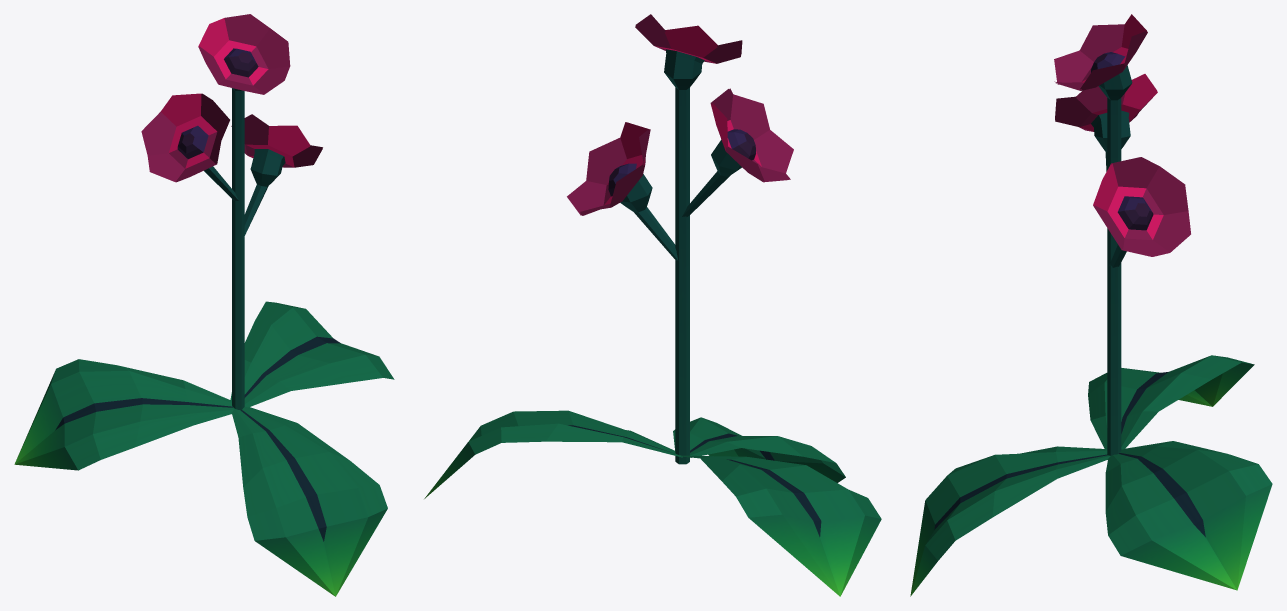
The model's file is Flower_RedHeads.fbx.
The picture shows the model from 3 angles, left to right: view 1: azimuth 30°, elevation 25°; view 2: azimuth 150°, elevation 25°; view 3: azimuth 270°, elevation 25°; orthographic projection. The views are drawn at different scales.
Parts seen in each view (by area): view 1: Plane.021; view 2: Plane.021; view 3: Plane.021.
Part boxes in pixels (bbox=[...]): Plane.021: bbox=[14, 14, 394, 596]; Plane.021: bbox=[424, 14, 881, 596]; Plane.021: bbox=[910, 14, 1272, 596].
Size of the model in its own units: 41.25 by 57.23 by 33.09.
